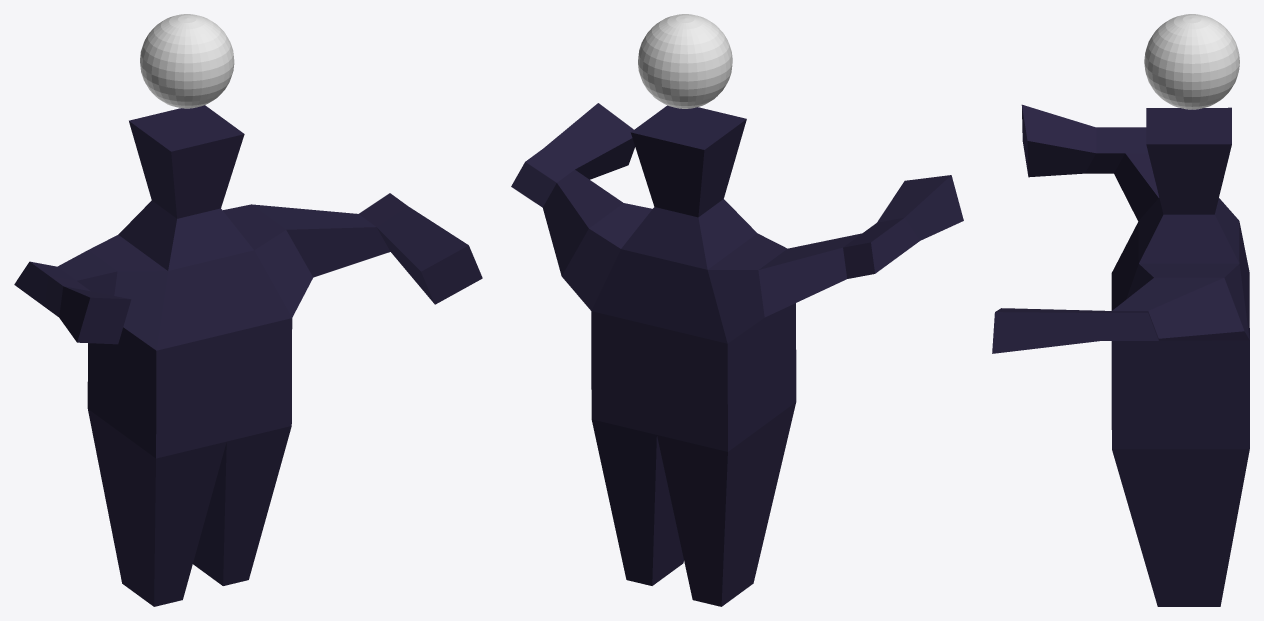
File: 1MainCharacter.glb
3 renders of one model, left to right at view 1: azimuth 30°, elevation 25°; view 2: azimuth 150°, elevation 25°; view 3: azimuth 270°, elevation 25°, orthographic.
Visible parts, largest first — view 1: MainCharacter, Sphere; view 2: MainCharacter, Sphere; view 3: MainCharacter, Sphere.
Part boxes in pixels (x1,y1,x2,y2): MainCharacter: (14, 105, 482, 606); Sphere: (140, 14, 234, 108); MainCharacter: (511, 103, 963, 606); Sphere: (638, 14, 732, 108); MainCharacter: (992, 104, 1249, 606); Sphere: (1144, 14, 1239, 109).
Bounding box in the file's own units: 3.72 × 5.14 × 2.1.
